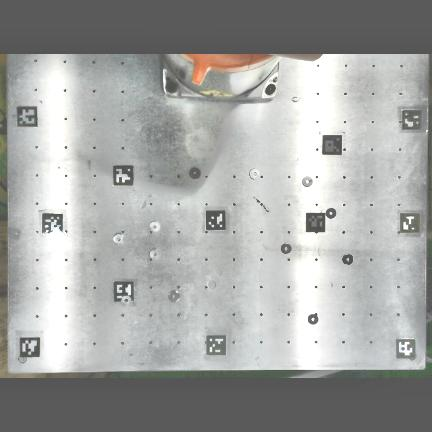marker: (17, 107, 38, 128), (400, 213, 420, 234), (42, 214, 62, 234), (113, 166, 133, 186), (114, 282, 134, 302), (206, 337, 226, 357), (403, 111, 422, 132), (206, 210, 225, 231), (20, 338, 40, 357), (396, 339, 415, 359), (306, 213, 325, 232), (323, 136, 342, 154)
washer: (189, 167, 201, 178), (150, 222, 160, 232), (114, 233, 124, 243), (169, 290, 179, 300), (308, 313, 318, 323), (326, 207, 336, 217), (250, 168, 259, 178), (281, 243, 291, 252), (343, 254, 353, 263), (303, 176, 313, 185)
